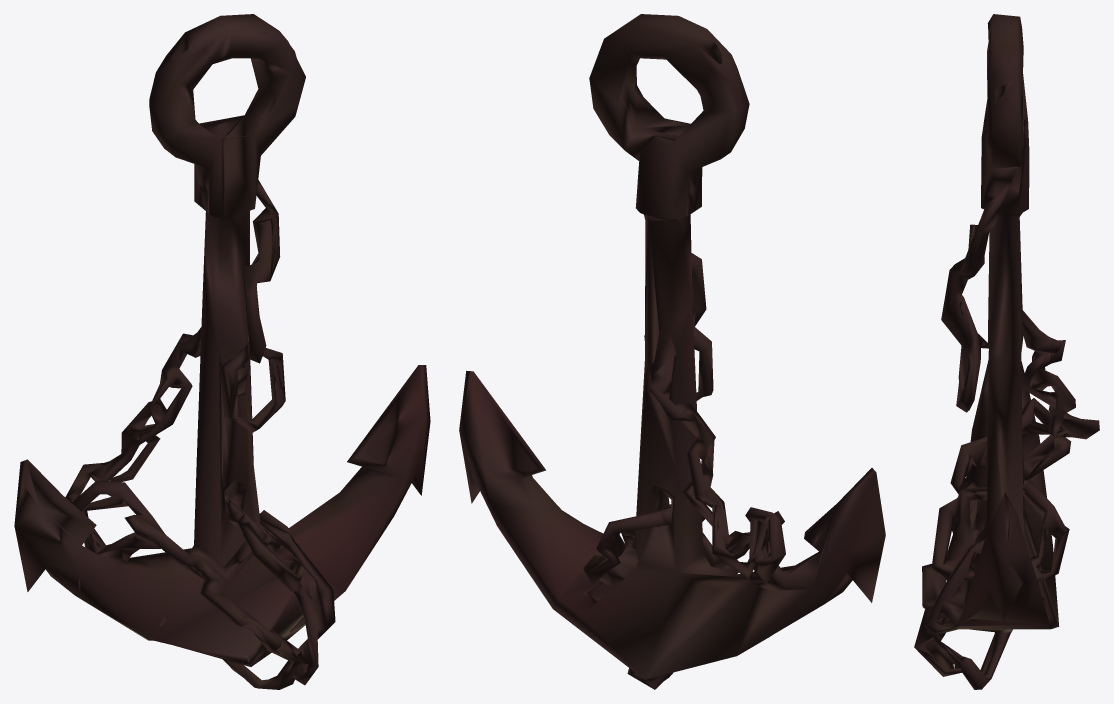
File: gen3d-sunken-anchor-lod1.glb
3 views of the same model, side by side, from view 1: azimuth 30°, elevation 25°; view 2: azimuth 150°, elevation 25°; view 3: azimuth 270°, elevation 25° (orthographic). The views are drawn at different scales.
Parts seen in each view (by area): view 1: part_0; view 2: part_0; view 3: part_0.
Boxes of the visible parts, box(x1,y1,x2,y2) form: part_0: box(14, 14, 430, 689); part_0: box(459, 14, 885, 689); part_0: box(914, 14, 1099, 689).
Size of the model in its own units: 0.6499 by 0.995 by 0.2591.
